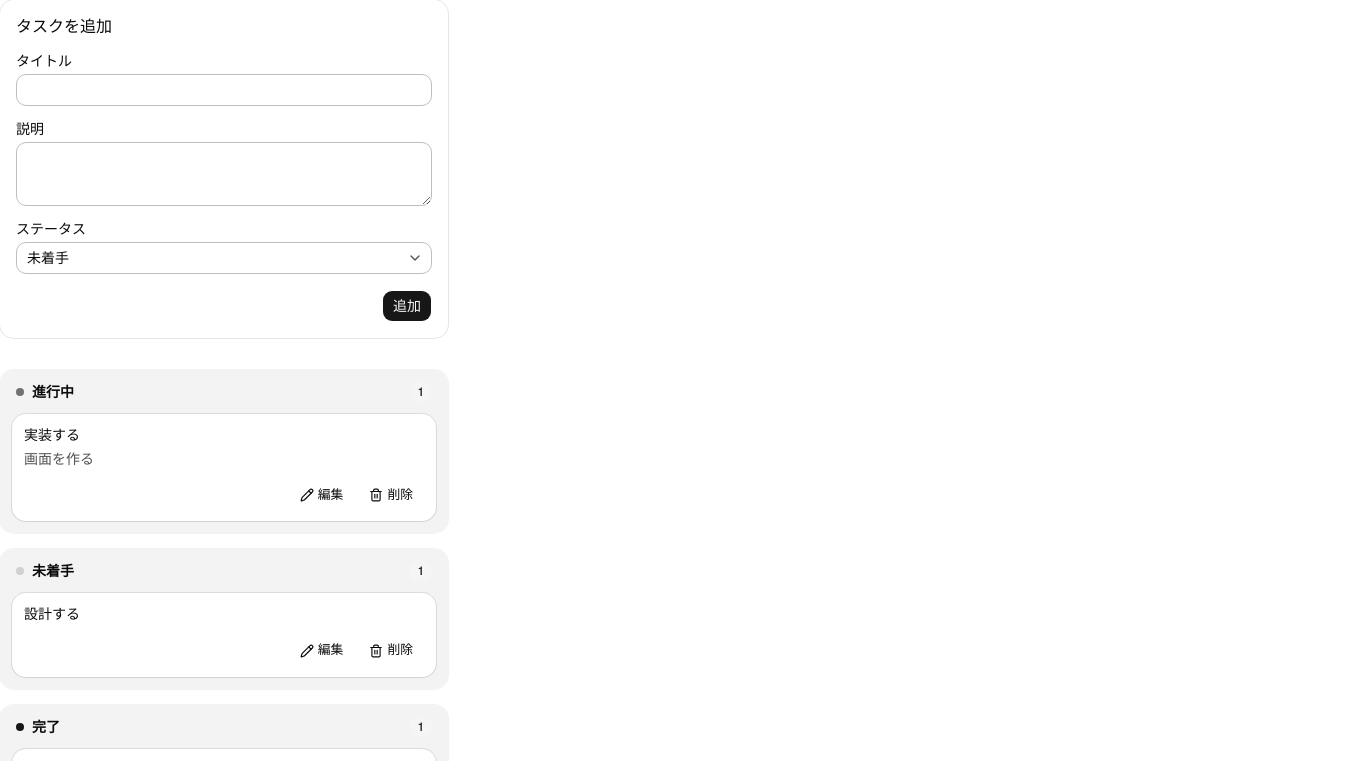
Test: 削除 › 確認ダイアログでキャンセルすると、タスクは残る
Click the button with aria-label "設計するを削除" at [391, 650], box x1=358 y1=636 x2=424 y2=664
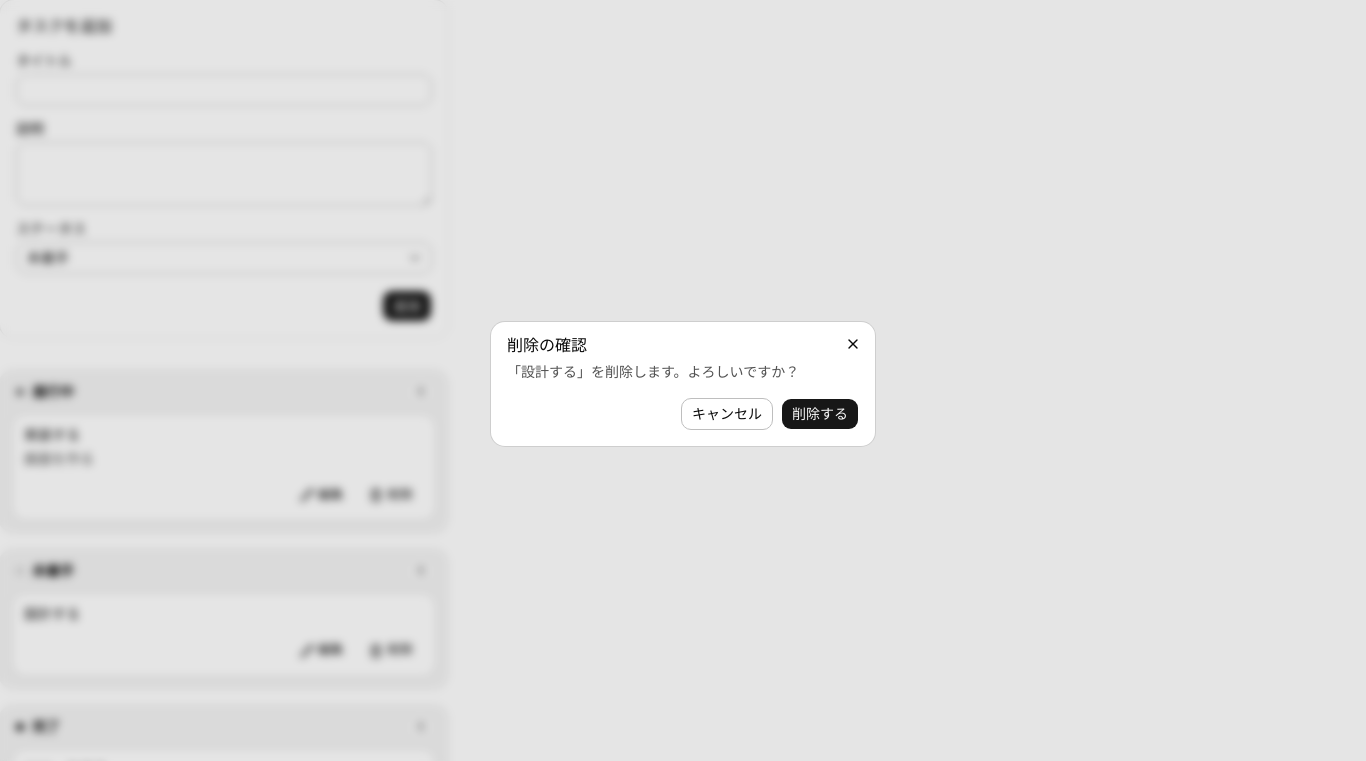
Click the button "キャンセル" at [727, 414], box x1=681 y1=398 x2=773 y2=430
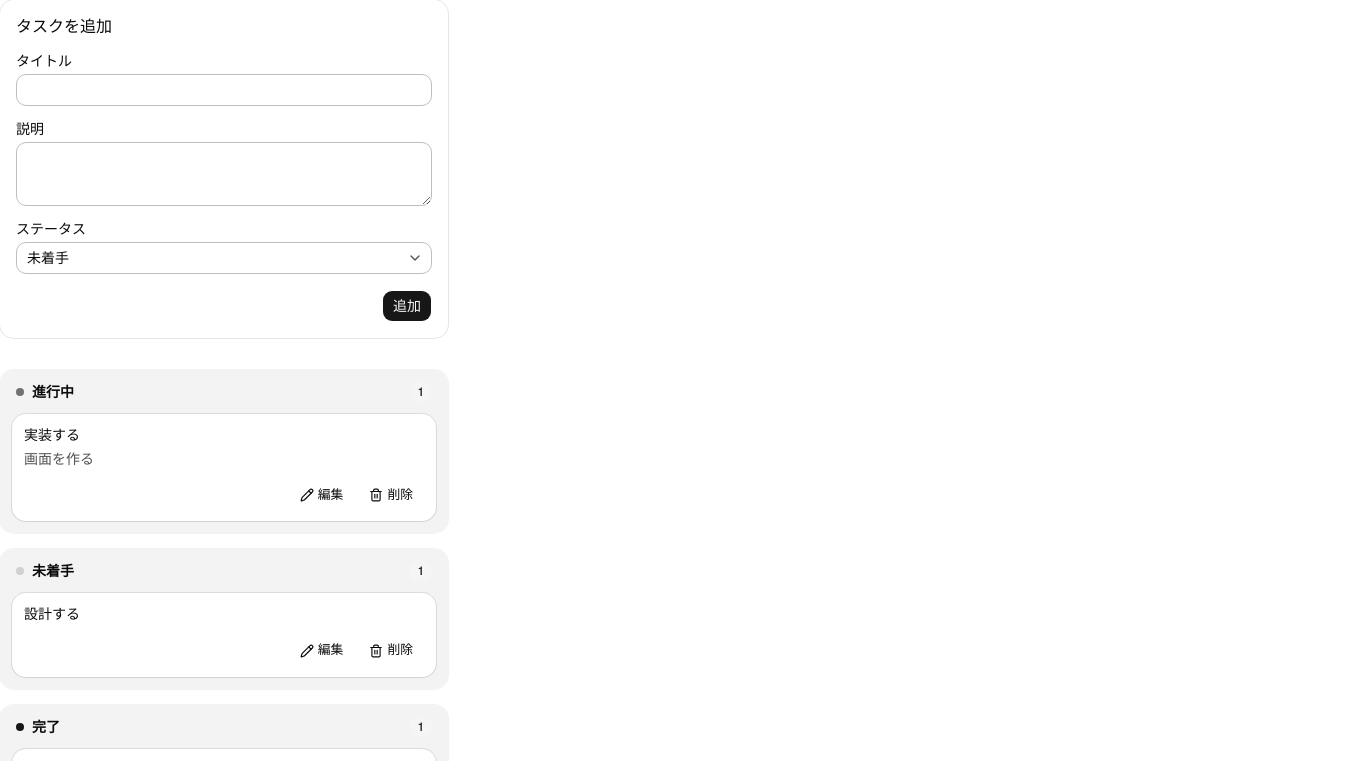
expect the heading "設計する" is shown: met, box x1=24 y1=605 x2=80 y2=623
expect the dialog is gone: met
